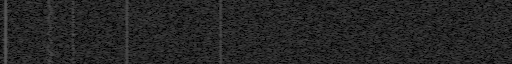wv_am: (218, 0, 223, 64), (3, 0, 8, 64)
wv_cw: (125, 0, 129, 64)
wv_lsb: (71, 1, 76, 56), (253, 37, 258, 44), (71, 57, 75, 61), (254, 57, 257, 60), (254, 45, 257, 48)
wv_wbfm: (44, 0, 55, 64)
